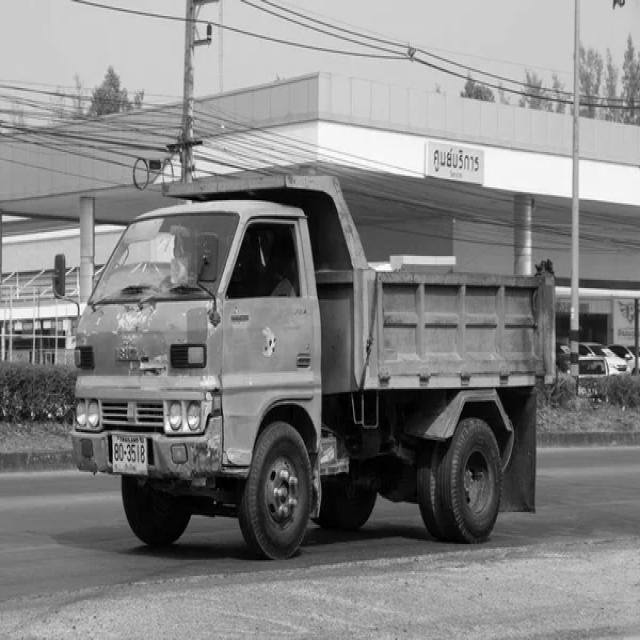Pole: (571, 0, 581, 378)
Truck: (71, 175, 557, 558)
